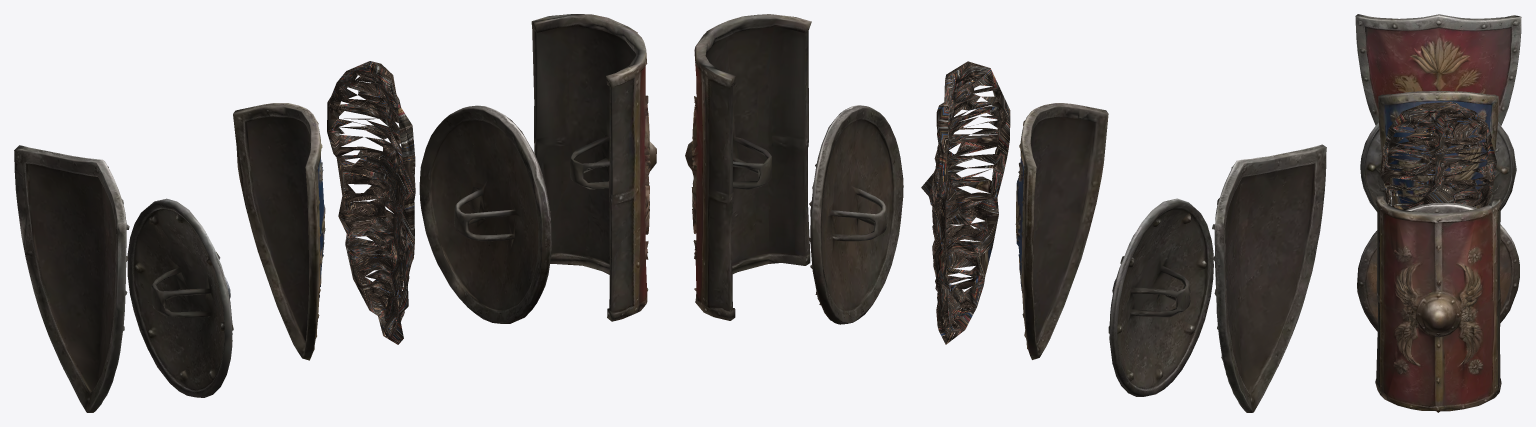
Rendered from weapons_shields.glb.
3 renders of one model, left to right at view 1: azimuth 30°, elevation 25°; view 2: azimuth 150°, elevation 25°; view 3: azimuth 270°, elevation 25°, orthographic. The views are drawn at different scales.
Parts seen in each view (by area): view 1: shield_tower, shield_round_wood, shield_heater, shield_spara, shield_kite, shield_buckler; view 2: shield_tower, shield_heater, shield_round_wood, shield_kite, shield_buckler, shield_spara; view 3: shield_tower, shield_heater, shield_spara, shield_kite, shield_round_wood, shield_buckler.
Boxes of the visible parts, x1,y1,x2,y2 form: shield_tower: [531, 14, 656, 321]; shield_round_wood: [419, 105, 552, 323]; shield_heater: [14, 145, 129, 412]; shield_spara: [327, 61, 415, 344]; shield_kite: [233, 103, 325, 360]; shield_buckler: [127, 198, 233, 397]; shield_tower: [685, 14, 811, 320]; shield_heater: [1212, 144, 1326, 412]; shield_round_wood: [808, 105, 903, 324]; shield_kite: [1015, 103, 1108, 359]; shield_buckler: [1108, 198, 1213, 396]; shield_spara: [921, 61, 1010, 344]; shield_tower: [1375, 196, 1501, 412]; shield_heater: [1355, 14, 1521, 125]; shield_spara: [1380, 101, 1496, 210]; shield_kite: [1378, 91, 1498, 208]; shield_round_wood: [1357, 203, 1519, 331]; shield_buckler: [1360, 122, 1516, 211].
Size of the model in its own units: 0.8251 by 0.3683 by 0.2589.
Materials: 1 (1 with a texture image).
